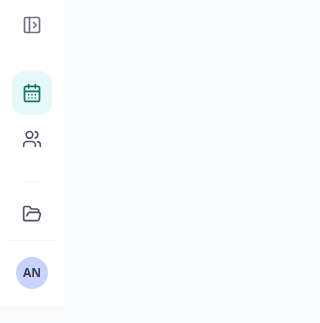
Test: Sidebar — menu da conta › continua acessível com a sidebar recolhida
Click the button with aria-label "Menu da conta de Ana": (32, 273) x1=12 y1=249 x2=52 y2=297
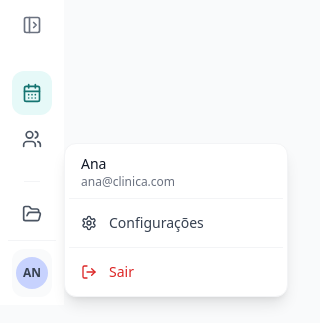
Now the menu item "Configurações" is shown, box x1=81 y1=213 x2=204 y2=232
